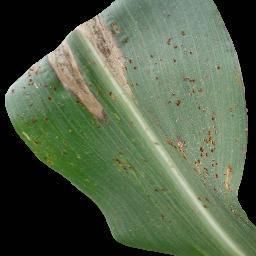Corn_Common_Rust: (8, 12, 142, 126), (195, 103, 221, 186), (238, 65, 252, 147), (167, 27, 195, 62), (163, 130, 190, 163), (110, 149, 136, 177), (180, 73, 207, 98), (196, 186, 220, 211), (147, 51, 165, 81), (220, 163, 236, 191), (163, 89, 181, 107), (156, 212, 174, 227), (28, 135, 46, 148), (224, 101, 236, 118), (60, 139, 71, 157), (41, 156, 55, 168), (154, 184, 170, 194), (164, 9, 174, 23), (213, 62, 223, 71)
